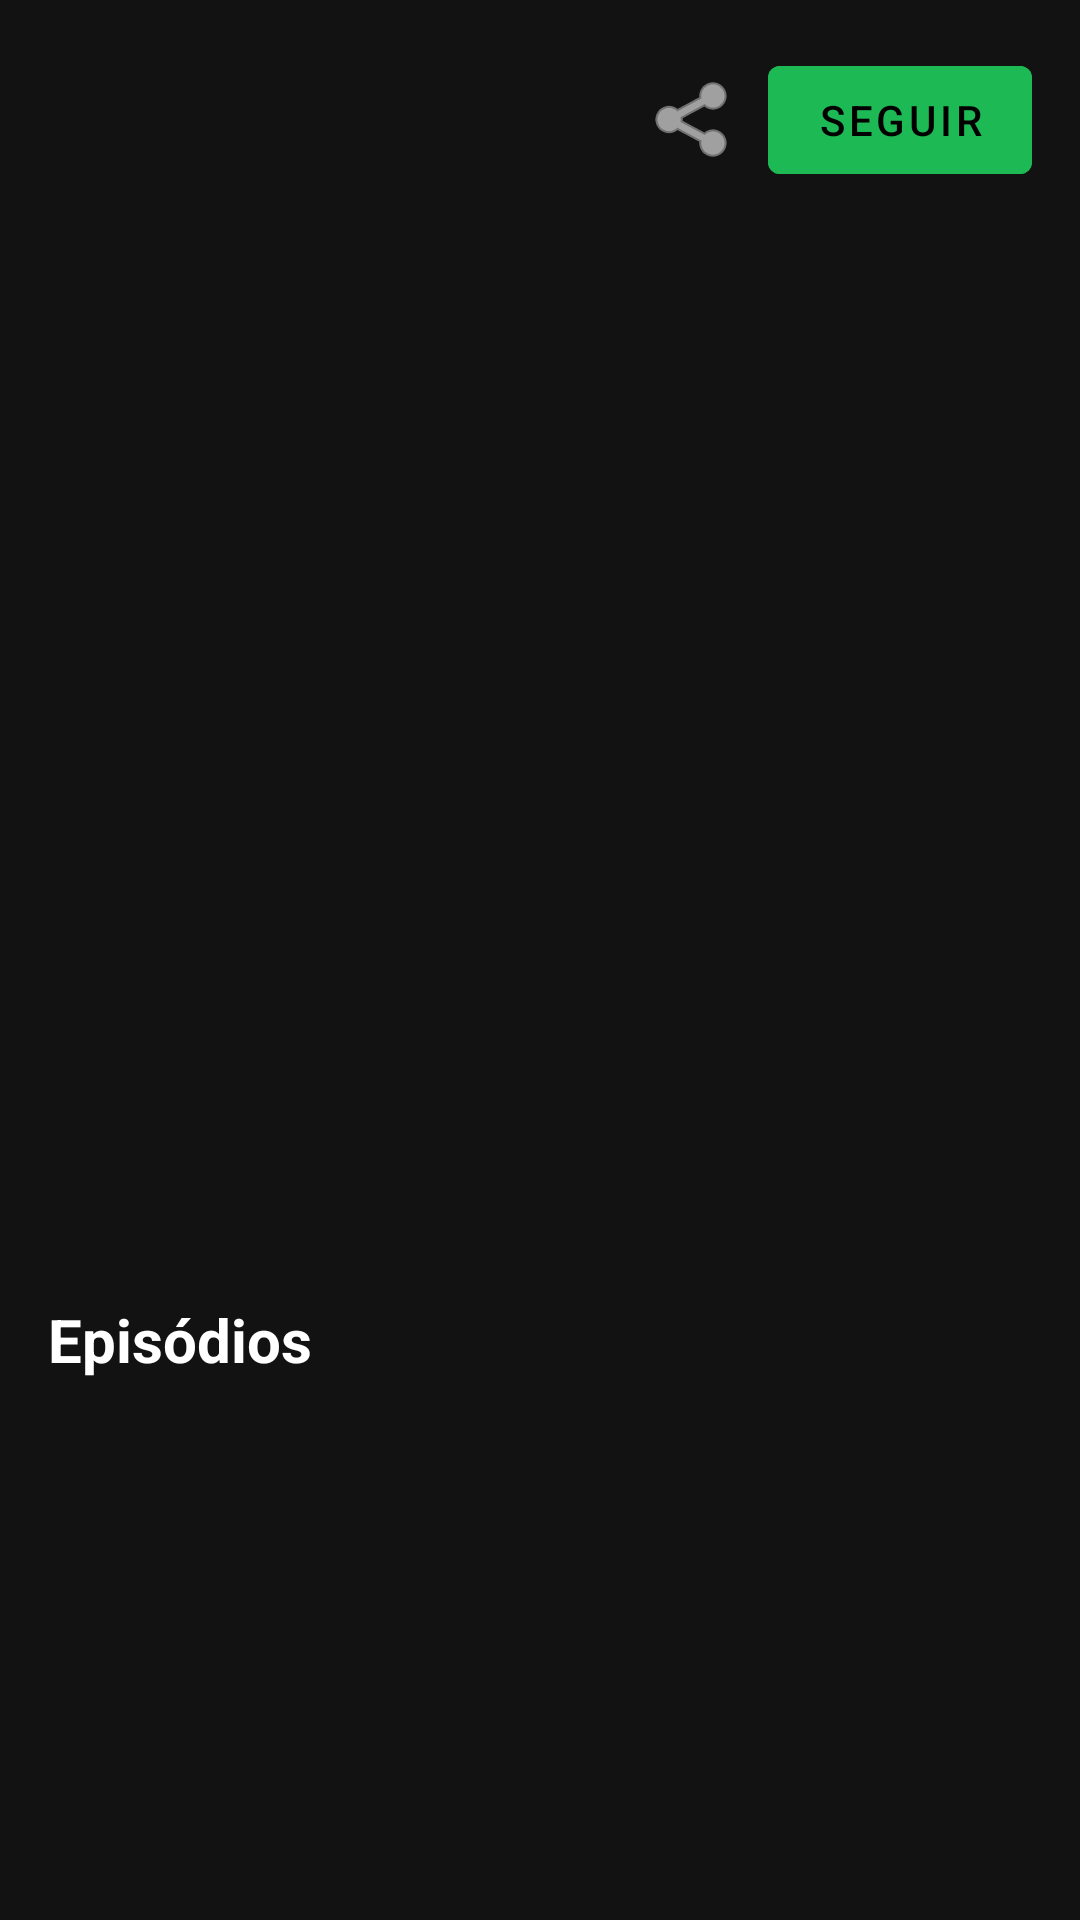

Icon click points for this 1080×1920 phone screenshot, format [x,y]:
Compartilhar: [691,119]
